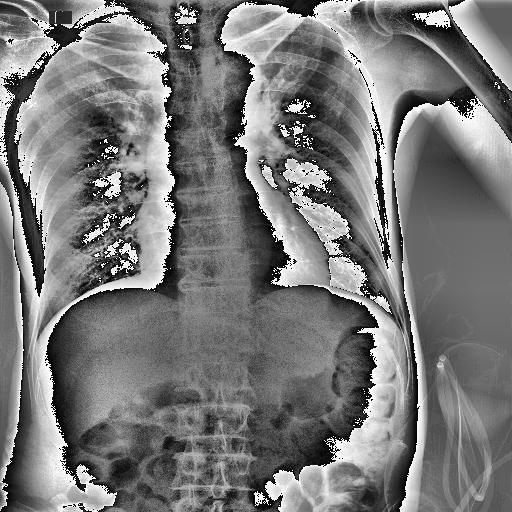0- Aortic enlargement: (196, 50, 261, 94), (207, 49, 261, 101), (204, 56, 260, 100)
11- Pleural thickening: (96, 14, 142, 24)
3- Cardiomegaly: (126, 226, 330, 310), (130, 218, 332, 294), (130, 219, 332, 283)
